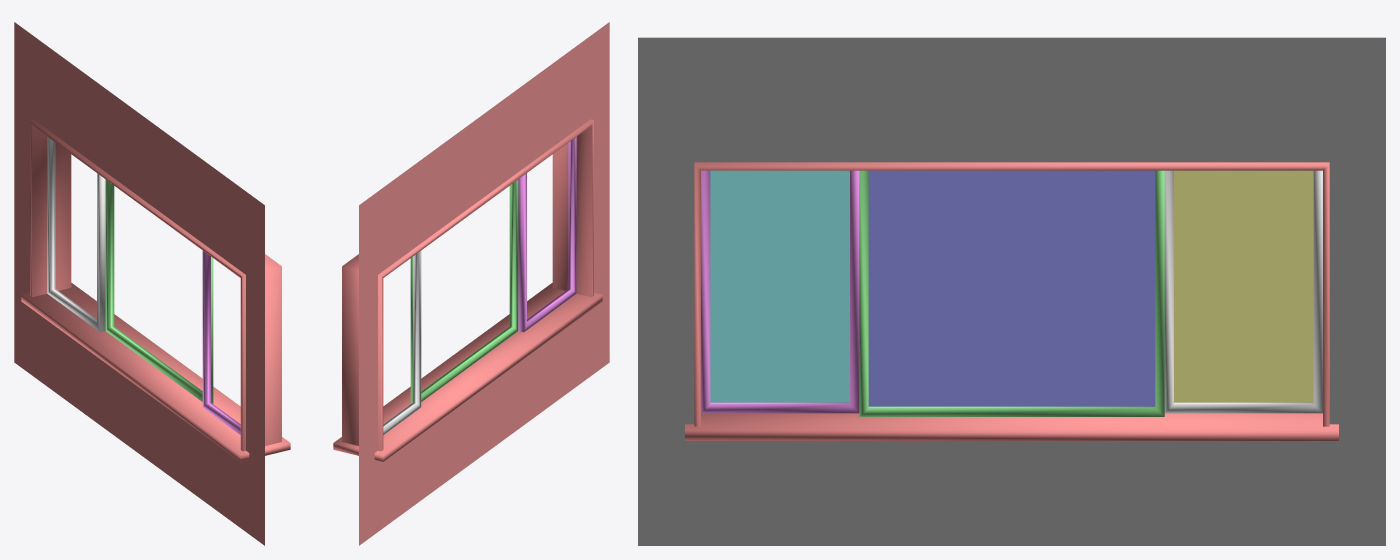
File: SM_window_14.gltf
3 renders of one model, left to right at view 1: azimuth 30°, elevation 25°; view 2: azimuth 150°, elevation 25°; view 3: azimuth 270°, elevation 25°, orthographic. The views are drawn at different scales.
Parts seen in each view (by area): view 1: SM_window_14; view 2: SM_window_14; view 3: SM_window_14.
Part boxes in pixels (left/top/right/bottom): SM_window_14: left=14, top=22, right=290, bottom=545; SM_window_14: left=333, top=22, right=609, bottom=545; SM_window_14: left=638, top=37, right=1385, bottom=545.
Bounding box in the file's own units: 0.46 × 3 × 4.
